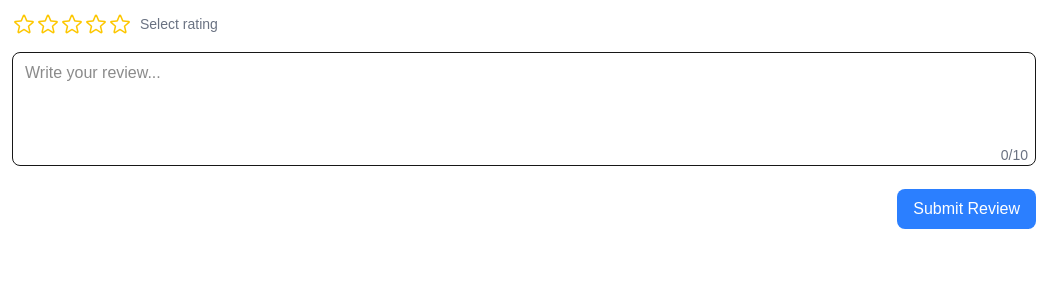
Review › shows error when content exceeds maxLength
Type "This is a very long review" into the text box at [524, 109], box [12, 52, 1036, 166]
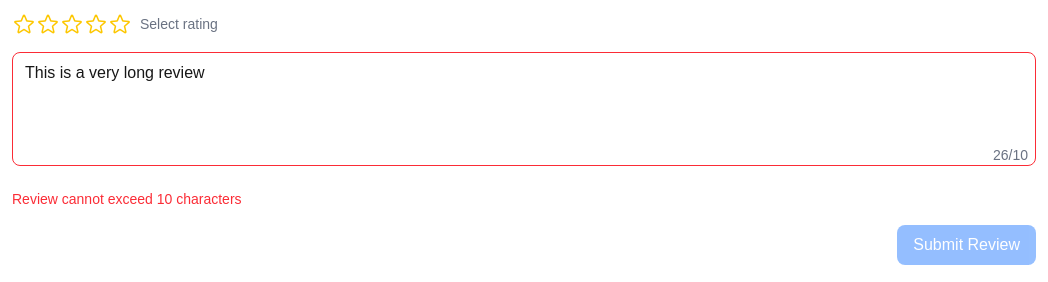
Expected: the text "Review cannot exceed 10 characters" is shown, [12, 191, 242, 207]
